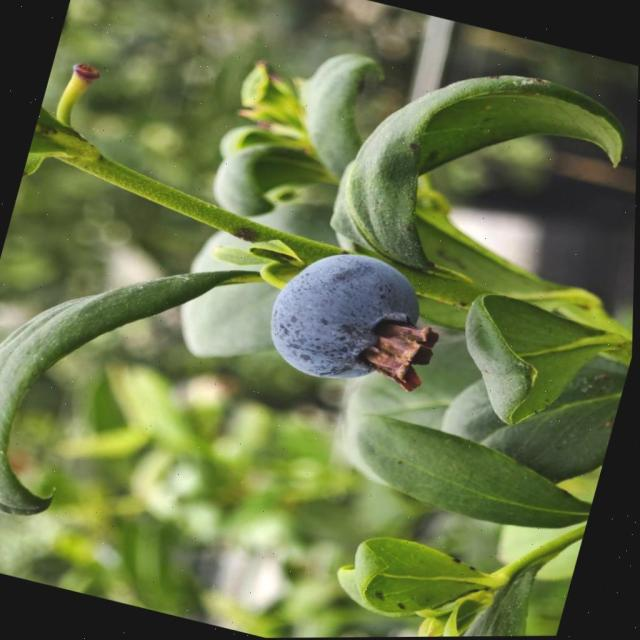RipeBlueBerry: (252, 230, 450, 404)
